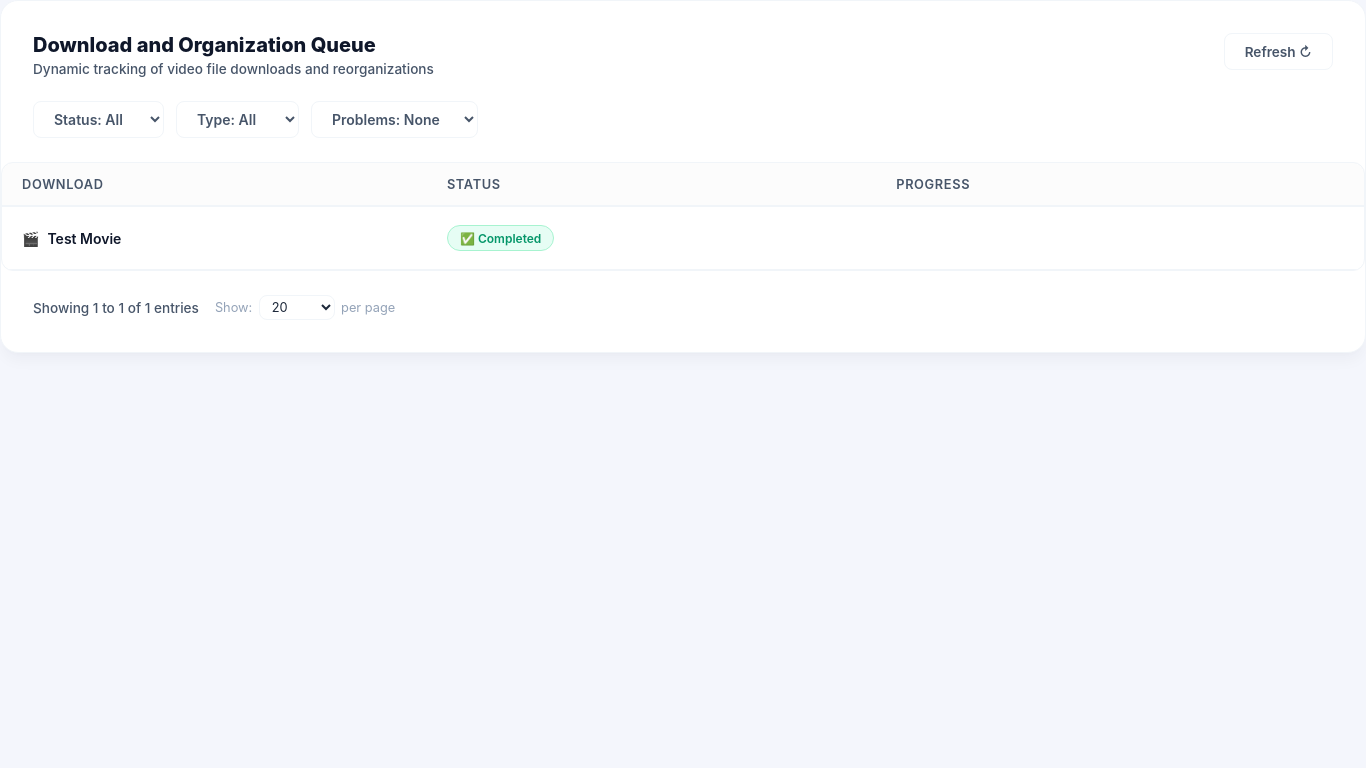
Test: DownloadsTab sidepanel › opens the drawer on row click and closes it via the close button
This screenshot has width=1366, height=768.
Expected: the text "Download Details" is not shown
Click the text "🎬Test Movie": (214, 239) [2,207,427,270]
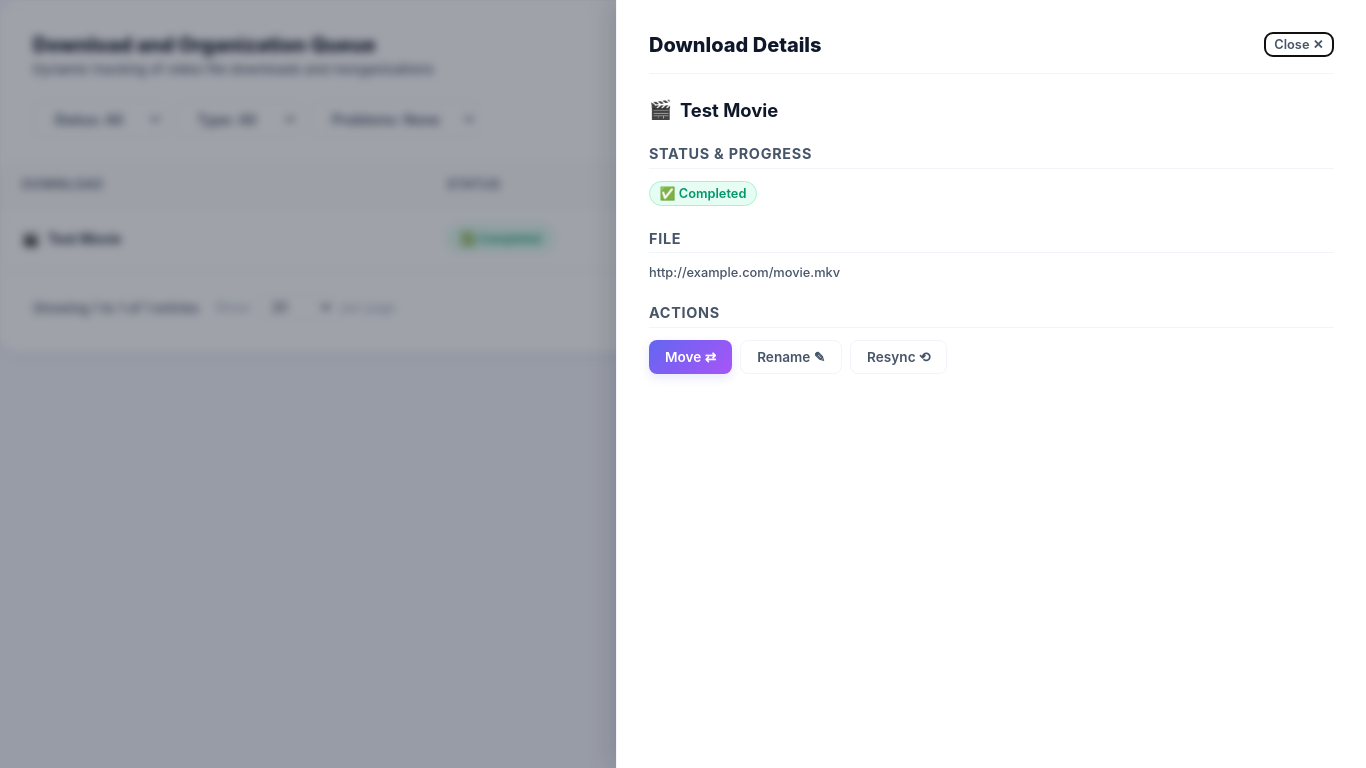
Now the heading "Download Details" is shown, box [649,32,822,56]
Click the button "Close ✕": (1299, 44) [1264,32,1334,57]
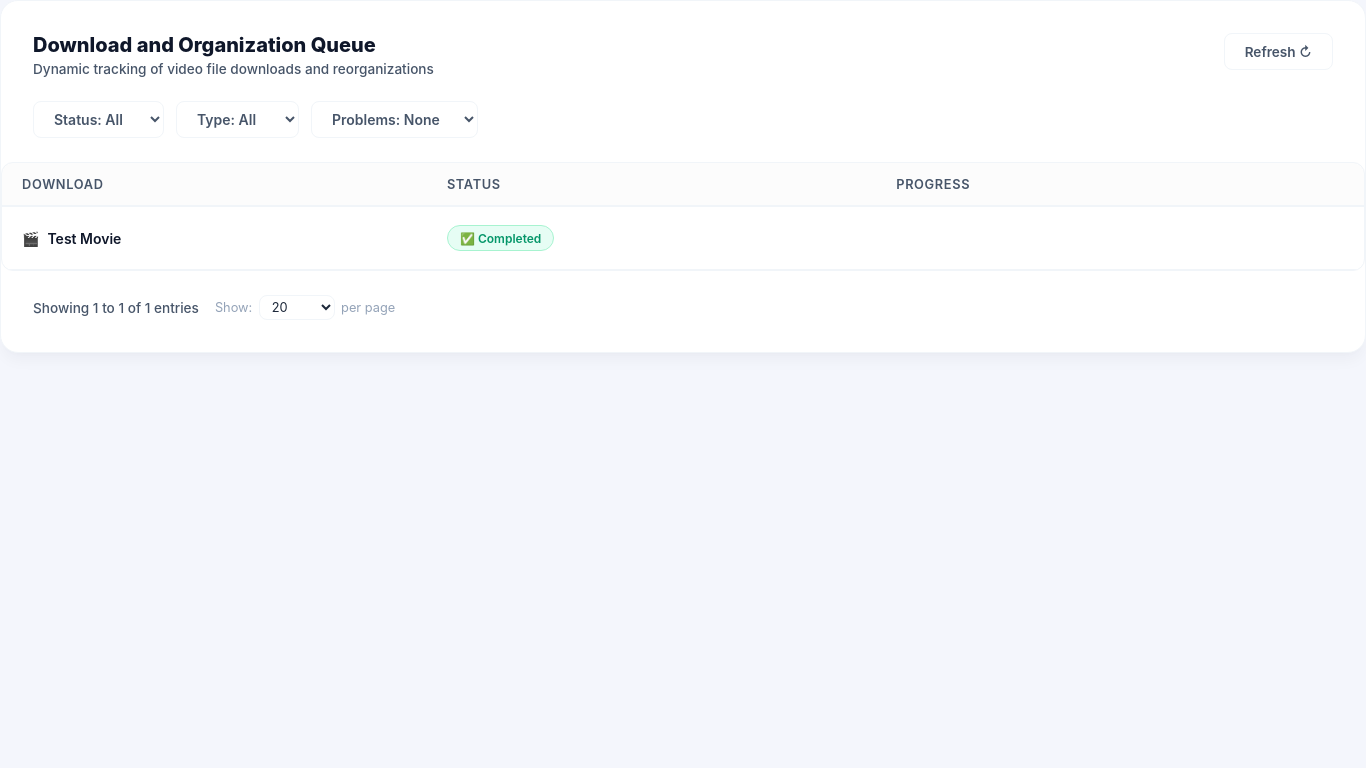
Now the heading "Download Details" is gone
